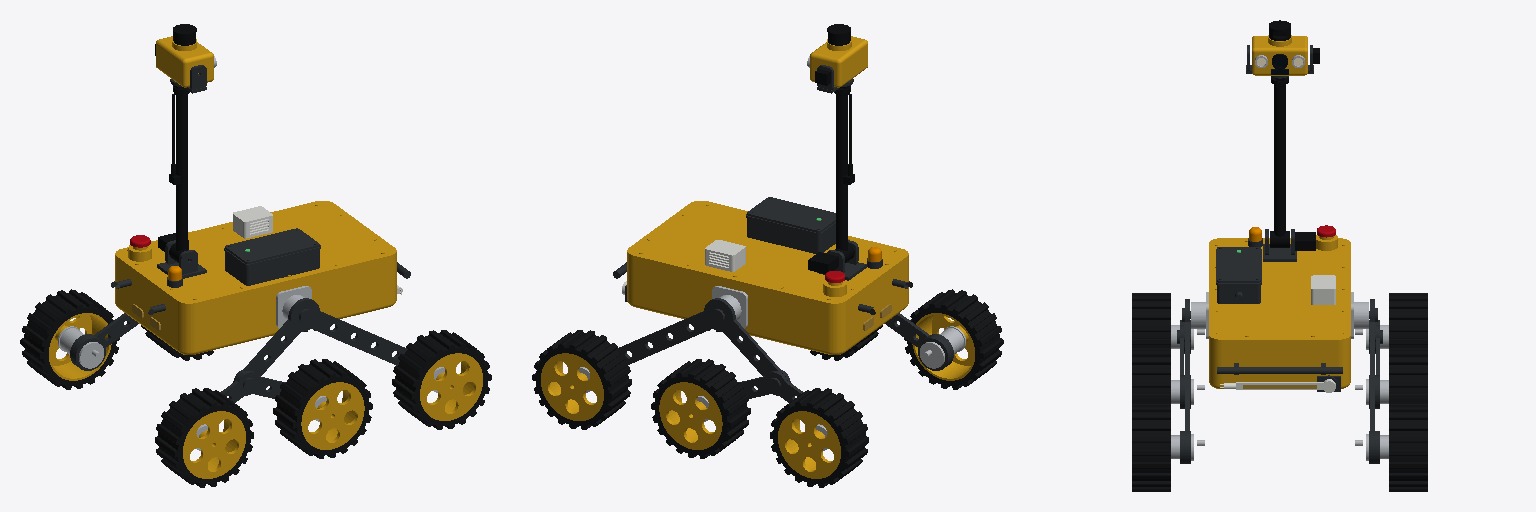
URDF robot description (scout_rover):
<?xml version="1.0"?>
<!-- Scout rover (rover-01). Written by robot/cad/scout.py: edit that, not this. Design only, never built. -->
<robot name="scout_rover">
  <material name="c0"><color rgba="0.824 0.627 0.118 1"/></material>
  <material name="c1"><color rgba="0.204 0.220 0.235 1"/></material>
  <material name="c2"><color rgba="0.725 0.741 0.757 1"/></material>
  <material name="c3"><color rgba="0.173 0.373 0.525 1"/></material>
  <material name="c4"><color rgba="0.184 0.420 0.271 1"/></material>
  <material name="c5"><color rgba="0.090 0.094 0.102 1"/></material>
  <material name="c6"><color rgba="0.341 0.820 0.478 1"/></material>
  <material name="c7"><color rgba="0.851 0.859 0.839 1"/></material>
  <material name="c8"><color rgba="0.702 0.075 0.122 1"/></material>
  <material name="c9"><color rgba="0.878 0.541 0.000 1"/></material>
  <material name="c10"><color rgba="0.690 0.553 0.235 1"/></material>
  <material name="c11"><color rgba="0.114 0.118 0.125 1"/></material>
  <material name="c12"><color rgba="0.055 0.102 0.141 1"/></material>
  <material name="c13"><color rgba="1.000 0.953 0.839 1"/></material>
  <link name="base">
    <inertial><origin xyz="-0.0045 0.0000 0.0251"/><mass value="5.054"/><inertia ixx="0.055621" ixy="0" ixz="0" iyy="0.116315" iyz="0" izz="0.152424"/></inertial>
    <visual><origin xyz="0.0000 0.0000 0.0000" rpy="0 0 0.00000"/><geometry><mesh filename="meshes/chassis_tub.stl" scale="0.001 0.001 0.001"/></geometry><material name="c0"/></visual>
    <visual><origin xyz="0.0000 0.0000 0.0000" rpy="0 0 0.00000"/><geometry><mesh filename="meshes/deck_lid.stl" scale="0.001 0.001 0.001"/></geometry><material name="c0"/></visual>
    <visual><origin xyz="0.0000 0.0000 0.0000" rpy="0 0 0.00000"/><geometry><mesh filename="meshes/bumper.stl" scale="0.001 0.001 0.001"/></geometry><material name="c1"/></visual>
    <visual><origin xyz="0.0000 0.0000 0.0000" rpy="0 0 0.00000"/><geometry><mesh filename="meshes/bearing_block.stl" scale="0.001 0.001 0.001"/></geometry><material name="c2"/></visual>
    <visual><origin xyz="0.0000 0.0000 0.0000" rpy="0 0 3.14159"/><geometry><mesh filename="meshes/bearing_block.stl" scale="0.001 0.001 0.001"/></geometry><material name="c2"/></visual>
    <visual><origin xyz="0.0000 0.0000 0.0000" rpy="0 0 0.00000"/><geometry><mesh filename="meshes/differential.stl" scale="0.001 0.001 0.001"/></geometry><material name="c1"/></visual>
    <visual><origin xyz="0.0000 0.0000 0.0000" rpy="0 0 0.00000"/><geometry><mesh filename="meshes/battery_pack.stl" scale="0.001 0.001 0.001"/></geometry><material name="c3"/></visual>
    <visual><origin xyz="0.0000 0.0000 0.0000" rpy="0 0 0.00000"/><geometry><mesh filename="meshes/main_board.stl" scale="0.001 0.001 0.001"/></geometry><material name="c4"/></visual>
    <visual><origin xyz="0.0000 0.0000 0.0000" rpy="0 0 0.00000"/><geometry><mesh filename="meshes/board_parts.stl" scale="0.001 0.001 0.001"/></geometry><material name="c2"/></visual>
    <visual><origin xyz="0.0000 0.0000 0.0000" rpy="0 0 0.00000"/><geometry><mesh filename="meshes/motor_drivers.stl" scale="0.001 0.001 0.001"/></geometry><material name="c5"/></visual>
    <visual><origin xyz="0.0000 0.0000 0.0000" rpy="0 0 0.00000"/><geometry><mesh filename="meshes/power_board.stl" scale="0.001 0.001 0.001"/></geometry><material name="c4"/></visual>
    <visual><origin xyz="0.0000 0.0000 0.0000" rpy="0 0 0.00000"/><geometry><mesh filename="meshes/relay_box.stl" scale="0.001 0.001 0.001"/></geometry><material name="c1"/></visual>
    <visual><origin xyz="0.0000 0.0000 0.0000" rpy="0 0 0.00000"/><geometry><mesh filename="meshes/relay_light.stl" scale="0.001 0.001 0.001"/></geometry><material name="c6"/></visual>
    <visual><origin xyz="0.0000 0.0000 0.0000" rpy="0 0 0.00000"/><geometry><mesh filename="meshes/gas_pod.stl" scale="0.001 0.001 0.001"/></geometry><material name="c7"/></visual>
    <visual><origin xyz="0.0000 0.0000 0.0000" rpy="0 0 0.00000"/><geometry><mesh filename="meshes/estop_base.stl" scale="0.001 0.001 0.001"/></geometry><material name="c0"/></visual>
    <visual><origin xyz="0.0000 0.0000 0.0000" rpy="0 0 0.00000"/><geometry><mesh filename="meshes/estop_button.stl" scale="0.001 0.001 0.001"/></geometry><material name="c8"/></visual>
    <visual><origin xyz="0.0000 0.0000 0.0000" rpy="0 0 0.00000"/><geometry><mesh filename="meshes/beacon_base.stl" scale="0.001 0.001 0.001"/></geometry><material name="c1"/></visual>
    <visual><origin xyz="0.0000 0.0000 0.0000" rpy="0 0 0.00000"/><geometry><mesh filename="meshes/beacon_dome.stl" scale="0.001 0.001 0.001"/></geometry><material name="c9"/></visual>
    <visual><origin xyz="0.0000 0.0000 0.0000" rpy="0 0 0.00000"/><geometry><mesh filename="meshes/charge_contacts.stl" scale="0.001 0.001 0.001"/></geometry><material name="c10"/></visual>
    <visual><origin xyz="0.0000 0.0000 0.0000" rpy="0 0 0.00000"/><geometry><mesh filename="meshes/mast_base.stl" scale="0.001 0.001 0.001"/></geometry><material name="c1"/></visual>
    <visual><origin xyz="0.0000 0.0000 0.0000" rpy="0 0 0.00000"/><geometry><mesh filename="meshes/mast_servo.stl" scale="0.001 0.001 0.001"/></geometry><material name="c5"/></visual>
    <visual><origin xyz="0.0000 0.0000 0.0000" rpy="0 0 0.00000"/><geometry><mesh filename="meshes/probe_flange.stl" scale="0.001 0.001 0.001"/></geometry><material name="c1"/></visual>
    <collision><geometry><box size="0.4400 0.2600 0.1000"/></geometry></collision>
  </link>
  <link name="rocker_L">
    <inertial><origin xyz="0.0650 0.0245 -0.0780"/><mass value="0.831"/><inertia ixx="0.004115" ixy="0" ixz="0" iyy="0.014986" iyz="0" izz="0.012639"/></inertial>
    <visual><origin xyz="0.0000 0.0000 0.0000" rpy="0 0 0.00000"/><geometry><mesh filename="meshes/rocker_L.stl" scale="0.001 0.001 0.001"/></geometry><material name="c1"/></visual>
    <visual><origin xyz="0.2400 0.0660 -0.1550" rpy="0 0 0.00000"/><geometry><mesh filename="meshes/drive_unit.stl" scale="0.001 0.001 0.001"/></geometry><material name="c2"/></visual>
  </link>
  <link name="bogie_L">
    <inertial><origin xyz="0.0000 0.0145 -0.0320"/><mass value="1.142"/><inertia ixx="0.002325" ixy="0" ixz="0" iyy="0.009790" iyz="0" izz="0.009895"/></inertial>
    <visual><origin xyz="0.0000 0.0000 0.0000" rpy="0 0 0.00000"/><geometry><mesh filename="meshes/bogie_L.stl" scale="0.001 0.001 0.001"/></geometry><material name="c1"/></visual>
    <visual><origin xyz="0.1200 0.0560 -0.0550" rpy="0 0 0.00000"/><geometry><mesh filename="meshes/drive_unit.stl" scale="0.001 0.001 0.001"/></geometry><material name="c2"/></visual>
    <visual><origin xyz="-0.1200 0.0560 -0.0550" rpy="0 0 0.00000"/><geometry><mesh filename="meshes/drive_unit.stl" scale="0.001 0.001 0.001"/></geometry><material name="c2"/></visual>
  </link>
  <link name="wheel_FL">
    <inertial><origin xyz="0.0000 0.0000 0.0000"/><mass value="0.410"/><inertia ixx="0.001060" ixy="0" ixz="0" iyy="0.001784" iyz="0" izz="0.001060"/></inertial>
    <visual><origin xyz="0.0000 0.0000 0.0000" rpy="0 0 0.00000"/><geometry><mesh filename="meshes/rim.stl" scale="0.001 0.001 0.001"/></geometry><material name="c0"/></visual>
    <visual><origin xyz="0.0000 0.0000 0.0000" rpy="0 0 0.00000"/><geometry><mesh filename="meshes/tyre.stl" scale="0.001 0.001 0.001"/></geometry><material name="c11"/></visual>
    <collision><origin rpy="1.5708 0 0"/><geometry><cylinder radius="0.0800" length="0.0700"/></geometry></collision>
  </link>
  <link name="wheel_ML">
    <inertial><origin xyz="0.0000 0.0000 0.0000"/><mass value="0.410"/><inertia ixx="0.001060" ixy="0" ixz="0" iyy="0.001784" iyz="0" izz="0.001060"/></inertial>
    <visual><origin xyz="0.0000 0.0000 0.0000" rpy="0 0 0.00000"/><geometry><mesh filename="meshes/rim.stl" scale="0.001 0.001 0.001"/></geometry><material name="c0"/></visual>
    <visual><origin xyz="0.0000 0.0000 0.0000" rpy="0 0 0.00000"/><geometry><mesh filename="meshes/tyre.stl" scale="0.001 0.001 0.001"/></geometry><material name="c11"/></visual>
    <collision><origin rpy="1.5708 0 0"/><geometry><cylinder radius="0.0800" length="0.0700"/></geometry></collision>
  </link>
  <link name="wheel_RL">
    <inertial><origin xyz="0.0000 0.0000 0.0000"/><mass value="0.410"/><inertia ixx="0.001060" ixy="0" ixz="0" iyy="0.001784" iyz="0" izz="0.001060"/></inertial>
    <visual><origin xyz="0.0000 0.0000 0.0000" rpy="0 0 0.00000"/><geometry><mesh filename="meshes/rim.stl" scale="0.001 0.001 0.001"/></geometry><material name="c0"/></visual>
    <visual><origin xyz="0.0000 0.0000 0.0000" rpy="0 0 0.00000"/><geometry><mesh filename="meshes/tyre.stl" scale="0.001 0.001 0.001"/></geometry><material name="c11"/></visual>
    <collision><origin rpy="1.5708 0 0"/><geometry><cylinder radius="0.0800" length="0.0700"/></geometry></collision>
  </link>
  <link name="rocker_R">
    <inertial><origin xyz="0.0650 -0.0245 -0.0780"/><mass value="0.831"/><inertia ixx="0.004115" ixy="0" ixz="0" iyy="0.014986" iyz="0" izz="0.012639"/></inertial>
    <visual><origin xyz="0.0000 0.0000 0.0000" rpy="0 0 0.00000"/><geometry><mesh filename="meshes/rocker_R.stl" scale="0.001 0.001 0.001"/></geometry><material name="c1"/></visual>
    <visual><origin xyz="0.2400 -0.0660 -0.1550" rpy="0 0 3.14159"/><geometry><mesh filename="meshes/drive_unit.stl" scale="0.001 0.001 0.001"/></geometry><material name="c2"/></visual>
  </link>
  <link name="bogie_R">
    <inertial><origin xyz="0.0000 -0.0145 -0.0320"/><mass value="1.142"/><inertia ixx="0.002325" ixy="0" ixz="0" iyy="0.009790" iyz="0" izz="0.009895"/></inertial>
    <visual><origin xyz="0.0000 0.0000 0.0000" rpy="0 0 0.00000"/><geometry><mesh filename="meshes/bogie_R.stl" scale="0.001 0.001 0.001"/></geometry><material name="c1"/></visual>
    <visual><origin xyz="0.1200 -0.0560 -0.0550" rpy="0 0 3.14159"/><geometry><mesh filename="meshes/drive_unit.stl" scale="0.001 0.001 0.001"/></geometry><material name="c2"/></visual>
    <visual><origin xyz="-0.1200 -0.0560 -0.0550" rpy="0 0 3.14159"/><geometry><mesh filename="meshes/drive_unit.stl" scale="0.001 0.001 0.001"/></geometry><material name="c2"/></visual>
  </link>
  <link name="wheel_FR">
    <inertial><origin xyz="0.0000 0.0000 0.0000"/><mass value="0.410"/><inertia ixx="0.001060" ixy="0" ixz="0" iyy="0.001784" iyz="0" izz="0.001060"/></inertial>
    <visual><origin xyz="0.0000 0.0000 0.0000" rpy="0 0 3.14159"/><geometry><mesh filename="meshes/rim.stl" scale="0.001 0.001 0.001"/></geometry><material name="c0"/></visual>
    <visual><origin xyz="0.0000 0.0000 0.0000" rpy="0 0 3.14159"/><geometry><mesh filename="meshes/tyre.stl" scale="0.001 0.001 0.001"/></geometry><material name="c11"/></visual>
    <collision><origin rpy="1.5708 0 0"/><geometry><cylinder radius="0.0800" length="0.0700"/></geometry></collision>
  </link>
  <link name="wheel_MR">
    <inertial><origin xyz="0.0000 0.0000 0.0000"/><mass value="0.410"/><inertia ixx="0.001060" ixy="0" ixz="0" iyy="0.001784" iyz="0" izz="0.001060"/></inertial>
    <visual><origin xyz="0.0000 0.0000 0.0000" rpy="0 0 3.14159"/><geometry><mesh filename="meshes/rim.stl" scale="0.001 0.001 0.001"/></geometry><material name="c0"/></visual>
    <visual><origin xyz="0.0000 0.0000 0.0000" rpy="0 0 3.14159"/><geometry><mesh filename="meshes/tyre.stl" scale="0.001 0.001 0.001"/></geometry><material name="c11"/></visual>
    <collision><origin rpy="1.5708 0 0"/><geometry><cylinder radius="0.0800" length="0.0700"/></geometry></collision>
  </link>
  <link name="wheel_RR">
    <inertial><origin xyz="0.0000 0.0000 0.0000"/><mass value="0.410"/><inertia ixx="0.001060" ixy="0" ixz="0" iyy="0.001784" iyz="0" izz="0.001060"/></inertial>
    <visual><origin xyz="0.0000 0.0000 0.0000" rpy="0 0 3.14159"/><geometry><mesh filename="meshes/rim.stl" scale="0.001 0.001 0.001"/></geometry><material name="c0"/></visual>
    <visual><origin xyz="0.0000 0.0000 0.0000" rpy="0 0 3.14159"/><geometry><mesh filename="meshes/tyre.stl" scale="0.001 0.001 0.001"/></geometry><material name="c11"/></visual>
    <collision><origin rpy="1.5708 0 0"/><geometry><cylinder radius="0.0800" length="0.0700"/></geometry></collision>
  </link>
  <link name="mast">
    <inertial><origin xyz="-0.0025 0.0000 0.1595"/><mass value="0.142"/><inertia ixx="0.001458" ixy="0" ixz="0" iyy="0.001458" iyz="0" izz="0.000033"/></inertial>
    <visual><origin xyz="0.0000 0.0000 0.0000" rpy="0 0 0.00000"/><geometry><mesh filename="meshes/mast_tube.stl" scale="0.001 0.001 0.001"/></geometry><material name="c5"/></visual>
    <visual><origin xyz="0.0000 0.0000 0.0000" rpy="0 0 0.00000"/><geometry><mesh filename="meshes/antenna.stl" scale="0.001 0.001 0.001"/></geometry><material name="c5"/></visual>
    <visual><origin xyz="0.0000 0.0000 0.0000" rpy="0 0 0.00000"/><geometry><mesh filename="meshes/pan_servo.stl" scale="0.001 0.001 0.001"/></geometry><material name="c5"/></visual>
  </link>
  <link name="pan">
    <inertial><origin xyz="0.0000 0.0060 0.0270"/><mass value="0.040"/><inertia ixx="0.000071" ixy="0" ixz="0" iyy="0.000015" iyz="0" izz="0.000067"/></inertial>
    <visual><origin xyz="0.0000 0.0000 0.0000" rpy="0 0 0.00000"/><geometry><mesh filename="meshes/yoke.stl" scale="0.001 0.001 0.001"/></geometry><material name="c1"/></visual>
    <visual><origin xyz="0.0000 0.0000 0.0000" rpy="0 0 0.00000"/><geometry><mesh filename="meshes/tilt_servo.stl" scale="0.001 0.001 0.001"/></geometry><material name="c5"/></visual>
  </link>
  <link name="head">
    <inertial><origin xyz="0.0090 0.0000 0.0050"/><mass value="0.179"/><inertia ixx="0.000226" ixy="0" ixz="0" iyy="0.000138" iyz="0" izz="0.000234"/></inertial>
    <visual><origin xyz="0.0000 0.0000 0.0000" rpy="0 0 0.00000"/><geometry><mesh filename="meshes/head_housing.stl" scale="0.001 0.001 0.001"/></geometry><material name="c0"/></visual>
    <visual><origin xyz="0.0000 0.0000 0.0000" rpy="0 0 0.00000"/><geometry><mesh filename="meshes/head_lens.stl" scale="0.001 0.001 0.001"/></geometry><material name="c5"/></visual>
    <visual><origin xyz="0.0000 0.0000 0.0000" rpy="0 0 0.00000"/><geometry><mesh filename="meshes/head_glass.stl" scale="0.001 0.001 0.001"/></geometry><material name="c12"/></visual>
    <visual><origin xyz="0.0000 0.0000 0.0000" rpy="0 0 0.00000"/><geometry><mesh filename="meshes/lamp_bezel.stl" scale="0.001 0.001 0.001"/></geometry><material name="c2"/></visual>
    <visual><origin xyz="0.0000 0.0000 0.0000" rpy="0 0 0.00000"/><geometry><mesh filename="meshes/lamp_lens.stl" scale="0.001 0.001 0.001"/></geometry><material name="c13"/></visual>
  </link>
  <link name="lidar">
    <inertial><origin xyz="0.0000 0.0000 0.0115"/><mass value="0.050"/><inertia ixx="0.000010" ixy="0" ixz="0" iyy="0.000010" iyz="0" izz="0.000015"/></inertial>
    <visual><origin xyz="0.0000 0.0000 0.0000" rpy="0 0 0.00000"/><geometry><mesh filename="meshes/lidar_rotor.stl" scale="0.001 0.001 0.001"/></geometry><material name="c5"/></visual>
  </link>
  <link name="probe">
    <inertial><origin xyz="0.0000 -0.0935 0.0000"/><mass value="0.070"/><inertia ixx="0.000263" ixy="0" ixz="0" iyy="0.000004" iyz="0" izz="0.000261"/></inertial>
    <visual><origin xyz="0.0000 0.0000 0.0000" rpy="0 0 0.00000"/><geometry><mesh filename="meshes/probe_arm.stl" scale="0.001 0.001 0.001"/></geometry><material name="c7"/></visual>
    <visual><origin xyz="0.0000 0.0000 0.0000" rpy="0 0 0.00000"/><geometry><mesh filename="meshes/probe_strip.stl" scale="0.001 0.001 0.001"/></geometry><material name="c10"/></visual>
  </link>
  <joint name="rocker_left" type="revolute">
    <parent link="base"/><child link="rocker_L"/>
    <origin xyz="0.0000 0.1690 0.0000"/><axis xyz="0 1 0"/>
    <limit lower="-0.4887" upper="0.4887" effort="0" velocity="3.0"/>
  </joint>
  <joint name="bogie_left" type="revolute">
    <parent link="rocker_L"/><child link="bogie_L"/>
    <origin xyz="-0.1200 0.0100 -0.1000"/><axis xyz="0 1 0"/>
    <limit lower="-0.5585" upper="0.5585" effort="0" velocity="3.0"/>
  </joint>
  <joint name="drive_front_left" type="continuous">
    <parent link="rocker_L"/><child link="wheel_FL"/>
    <origin xyz="0.2400 0.0660 -0.1550"/><axis xyz="0 1 0"/>
    <limit effort="6.0" velocity="7.85"/>
  </joint>
  <joint name="drive_mid_left" type="continuous">
    <parent link="bogie_L"/><child link="wheel_ML"/>
    <origin xyz="0.1200 0.0560 -0.0550"/><axis xyz="0 1 0"/>
    <limit effort="6.0" velocity="7.85"/>
  </joint>
  <joint name="drive_rear_left" type="continuous">
    <parent link="bogie_L"/><child link="wheel_RL"/>
    <origin xyz="-0.1200 0.0560 -0.0550"/><axis xyz="0 1 0"/>
    <limit effort="6.0" velocity="7.85"/>
  </joint>
  <joint name="rocker_right" type="revolute">
    <parent link="base"/><child link="rocker_R"/>
    <origin xyz="0.0000 -0.1690 0.0000"/><axis xyz="0 1 0"/>
    <limit lower="-0.4887" upper="0.4887" effort="0" velocity="3.0"/>
    <mimic joint="rocker_left" multiplier="-1"/>  <!-- the differential -->
  </joint>
  <joint name="bogie_right" type="revolute">
    <parent link="rocker_R"/><child link="bogie_R"/>
    <origin xyz="-0.1200 -0.0100 -0.1000"/><axis xyz="0 1 0"/>
    <limit lower="-0.5585" upper="0.5585" effort="0" velocity="3.0"/>
  </joint>
  <joint name="drive_front_right" type="continuous">
    <parent link="rocker_R"/><child link="wheel_FR"/>
    <origin xyz="0.2400 -0.0660 -0.1550"/><axis xyz="0 1 0"/>
    <limit effort="6.0" velocity="7.85"/>
  </joint>
  <joint name="drive_mid_right" type="continuous">
    <parent link="bogie_R"/><child link="wheel_MR"/>
    <origin xyz="0.1200 -0.0560 -0.0550"/><axis xyz="0 1 0"/>
    <limit effort="6.0" velocity="7.85"/>
  </joint>
  <joint name="drive_rear_right" type="continuous">
    <parent link="bogie_R"/><child link="wheel_RR"/>
    <origin xyz="-0.1200 -0.0560 -0.0550"/><axis xyz="0 1 0"/>
    <limit effort="6.0" velocity="7.85"/>
  </joint>
  <joint name="mast_fold" type="revolute">
    <parent link="base"/><child link="mast"/>
    <origin xyz="-0.1500 0.0000 0.0830"/><axis xyz="0 1 0"/>
    <limit lower="0.0000" upper="1.5708" effort="2.4" velocity="3.0"/>
  </joint>
  <joint name="head_pan" type="revolute">
    <parent link="mast"/><child link="pan"/>
    <origin xyz="0.0000 0.0000 0.3340"/><axis xyz="0 0 1"/>
    <limit lower="-2.6180" upper="2.6180" effort="0.2" velocity="3.0"/>
  </joint>
  <joint name="head_tilt" type="revolute">
    <parent link="pan"/><child link="head"/>
    <origin xyz="0.0000 0.0000 0.0400"/><axis xyz="0 1 0"/>
    <limit lower="-1.7453" upper="0.8727" effort="0.2" velocity="3.0"/>
  </joint>
  <joint name="lidar_spin" type="continuous">
    <parent link="head"/><child link="lidar"/>
    <origin xyz="0.0060 0.0000 0.0380"/><axis xyz="0 0 1"/>
    <limit effort="0.1" velocity="3.0"/>
  </joint>
  <joint name="probe_arm" type="revolute">
    <parent link="base"/><child link="probe"/>
    <origin xyz="0.2320 0.0900 -0.0350"/><axis xyz="1 0 0"/>
    <limit lower="0.0000" upper="1.5708" effort="1.0" velocity="3.0"/>
  </joint>
</robot>

--- Facts derived from the render (not from the file) ---
3 views of the same robot in one strip: view 1: azimuth 30°, elevation 25°; view 2: azimuth 150°, elevation 25°; view 3: azimuth 270°, elevation 25° (orthographic).
Robot: scout_rover — 16 links, 15 joints (8 revolute, 7 continuous); root link base; default pose: every joint at zero.
Visible links, largest first — view 1: base, wheel_FR, wheel_RR, wheel_MR, wheel_RL, rocker_R, mast, bogie_L, head, bogie_R; view 2: base, wheel_FL, wheel_RL, wheel_ML, wheel_RR, rocker_L, mast, bogie_R, head, bogie_L; view 3: base, wheel_FL, wheel_FR, mast, wheel_ML, wheel_RL, wheel_MR, wheel_RR, head, rocker_L, rocker_R, bogie_L (+2 smaller).
Link boxes in pixels (x1,y1,x2,y2): base: [111, 201, 410, 354]; wheel_FR: [392, 330, 491, 429]; wheel_RR: [155, 388, 253, 487]; wheel_MR: [273, 359, 372, 458]; wheel_RL: [20, 289, 119, 389]; rocker_R: [233, 298, 444, 392]; mast: [169, 85, 189, 262]; bogie_L: [58, 313, 138, 370]; head: [156, 36, 216, 87]; bogie_R: [196, 371, 326, 450]; base: [613, 197, 912, 354]; wheel_FL: [532, 330, 631, 429]; wheel_RL: [770, 388, 868, 487]; wheel_ML: [651, 359, 750, 458]; wheel_RR: [904, 289, 1003, 389]; rocker_L: [579, 298, 790, 392]; mast: [834, 85, 854, 262]; bogie_R: [885, 313, 965, 370]; head: [807, 36, 867, 87]; bogie_L: [697, 371, 827, 450]; base: [1190, 225, 1369, 391]; wheel_FL: [1389, 403, 1427, 491]; wheel_FR: [1132, 403, 1170, 491]; mast: [1270, 77, 1289, 247]; wheel_ML: [1389, 348, 1427, 402]; wheel_RL: [1389, 293, 1427, 347]; wheel_MR: [1132, 348, 1170, 402]; wheel_RR: [1132, 293, 1170, 347]; head: [1252, 35, 1307, 75]; rocker_L: [1355, 299, 1388, 463]; rocker_R: [1171, 299, 1204, 463]; bogie_L: [1355, 320, 1388, 408].
Size in the robot's own frame: 0.6415 by 0.54 by 0.7538 metres.
Meshes: 41 distinct files referenced, 57 mesh visuals loaded (41 binary STL).
